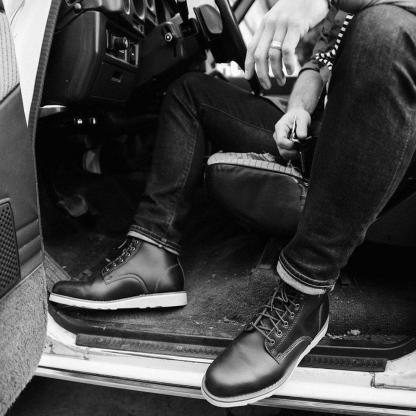ankle: (148, 255, 152, 262), (312, 301, 314, 305)
heel: (324, 327, 328, 332), (181, 299, 185, 303)
left_foot: (202, 291, 332, 409)
pinky: (228, 390, 232, 395), (64, 283, 66, 285)
right_foot: (50, 252, 188, 311)
toe: (208, 370, 214, 376), (60, 292, 63, 294)
